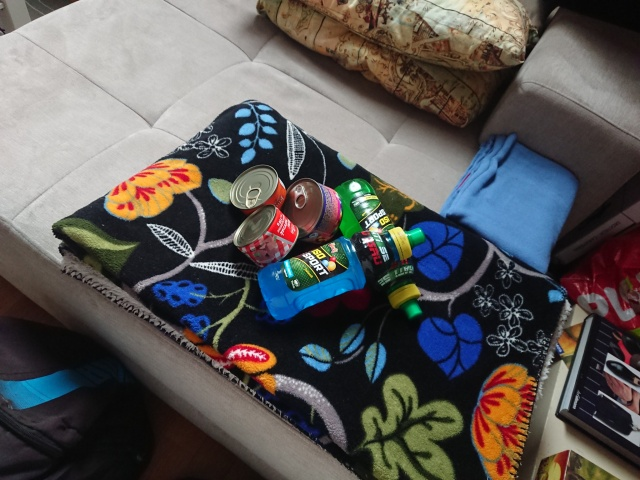Gavrilovic Pork Liver Pate 100g: (227, 161, 289, 222)
Giana Tuna Salad Mexico 185g: (279, 174, 346, 248)
Podravka Luncheon Meat 150g: (232, 203, 302, 271)
Vindi Iso Sport Forest Strawberries 500mL: (253, 225, 427, 323)
Vindi Iso Sport Lemon-Grapefruit 500mL: (325, 176, 426, 322)
